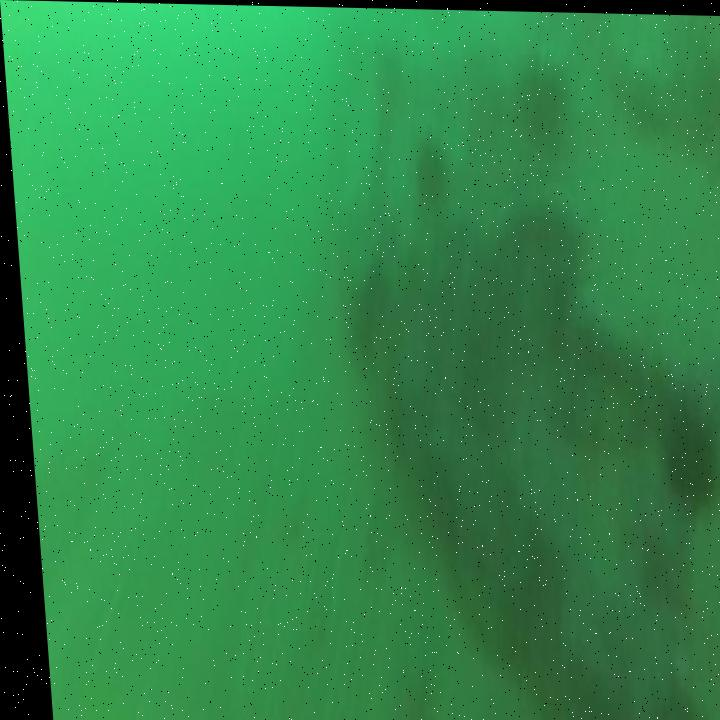echinus: (650, 388, 718, 519), (409, 133, 445, 216)
